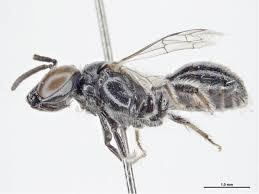Braunsapis: (15, 21, 252, 160)
